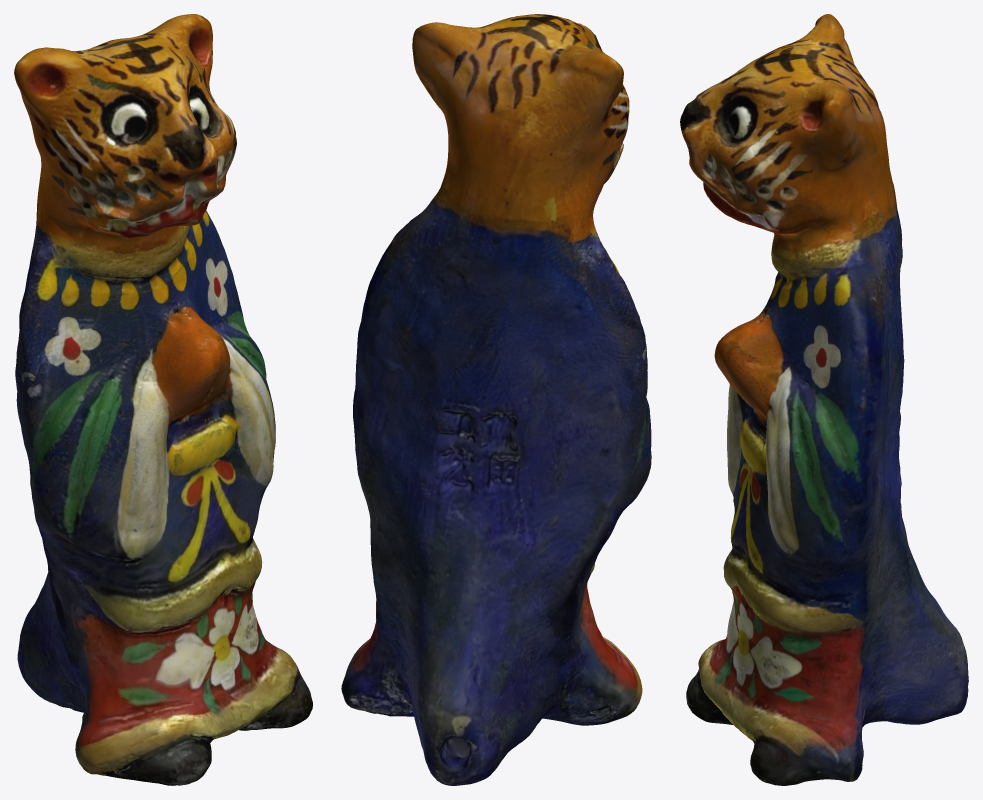
3 renders of one model, left to right at view 1: azimuth 30°, elevation 25°; view 2: azimuth 150°, elevation 25°; view 3: azimuth 270°, elevation 25°, orthographic. The views are drawn at different scales.
Bounding box in the file's own units: 0.2652 × 0.6428 × 0.2536.
Materials: 1 (1 with a texture image).
